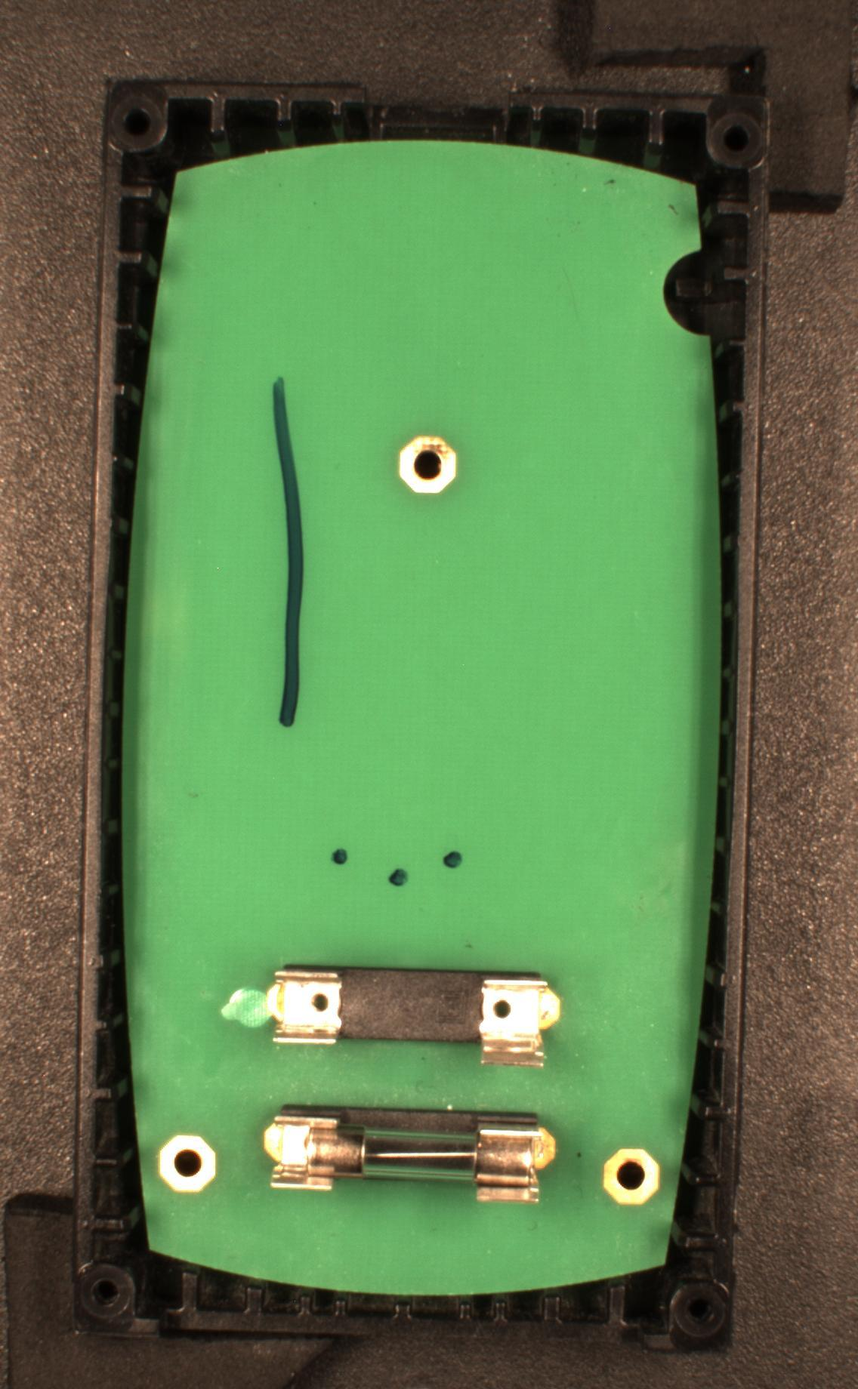Linijsko Ostecene: (266, 376, 307, 733)
Nepostojanje osiguraca: (265, 963, 563, 1070)
Tockasto Ostecenje: (386, 865, 410, 888), (330, 847, 352, 869), (441, 849, 462, 870)
